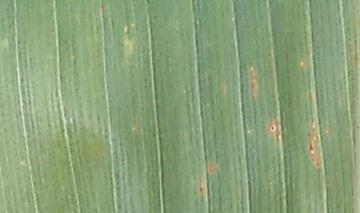tarspot: (269, 122, 280, 135), (196, 184, 206, 195)
